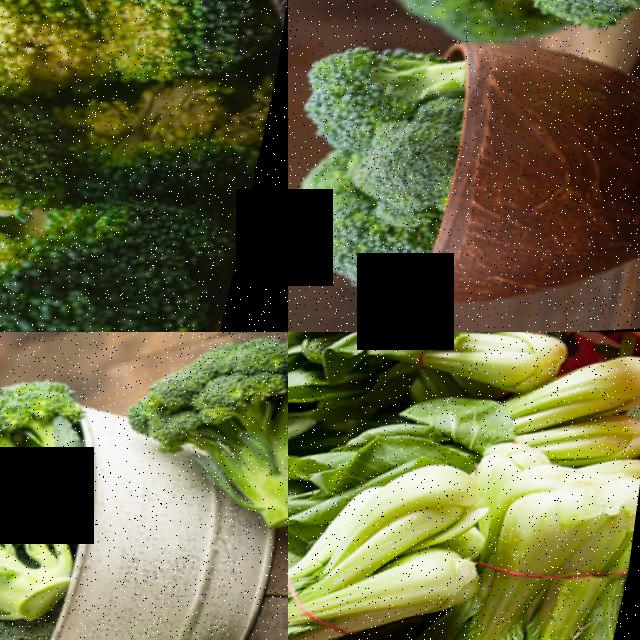bok choy: (429, 475, 640, 640), (288, 503, 471, 640), (288, 332, 570, 402)
broccoli: (115, 332, 288, 547), (0, 207, 251, 332), (0, 0, 255, 96), (301, 15, 474, 126), (307, 213, 479, 322), (0, 494, 96, 631), (0, 380, 90, 521), (357, 120, 480, 210)
